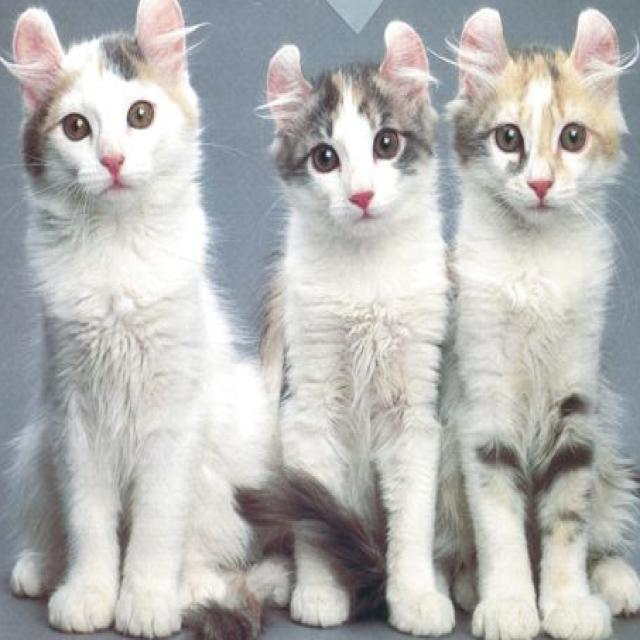American Curl: (1, 0, 256, 640), (445, 3, 640, 640), (257, 15, 453, 640)
